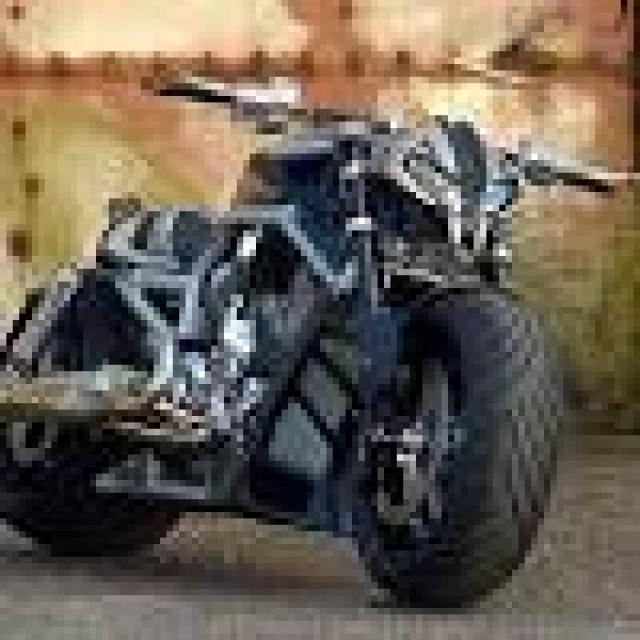Bike: (0, 77, 616, 608)
